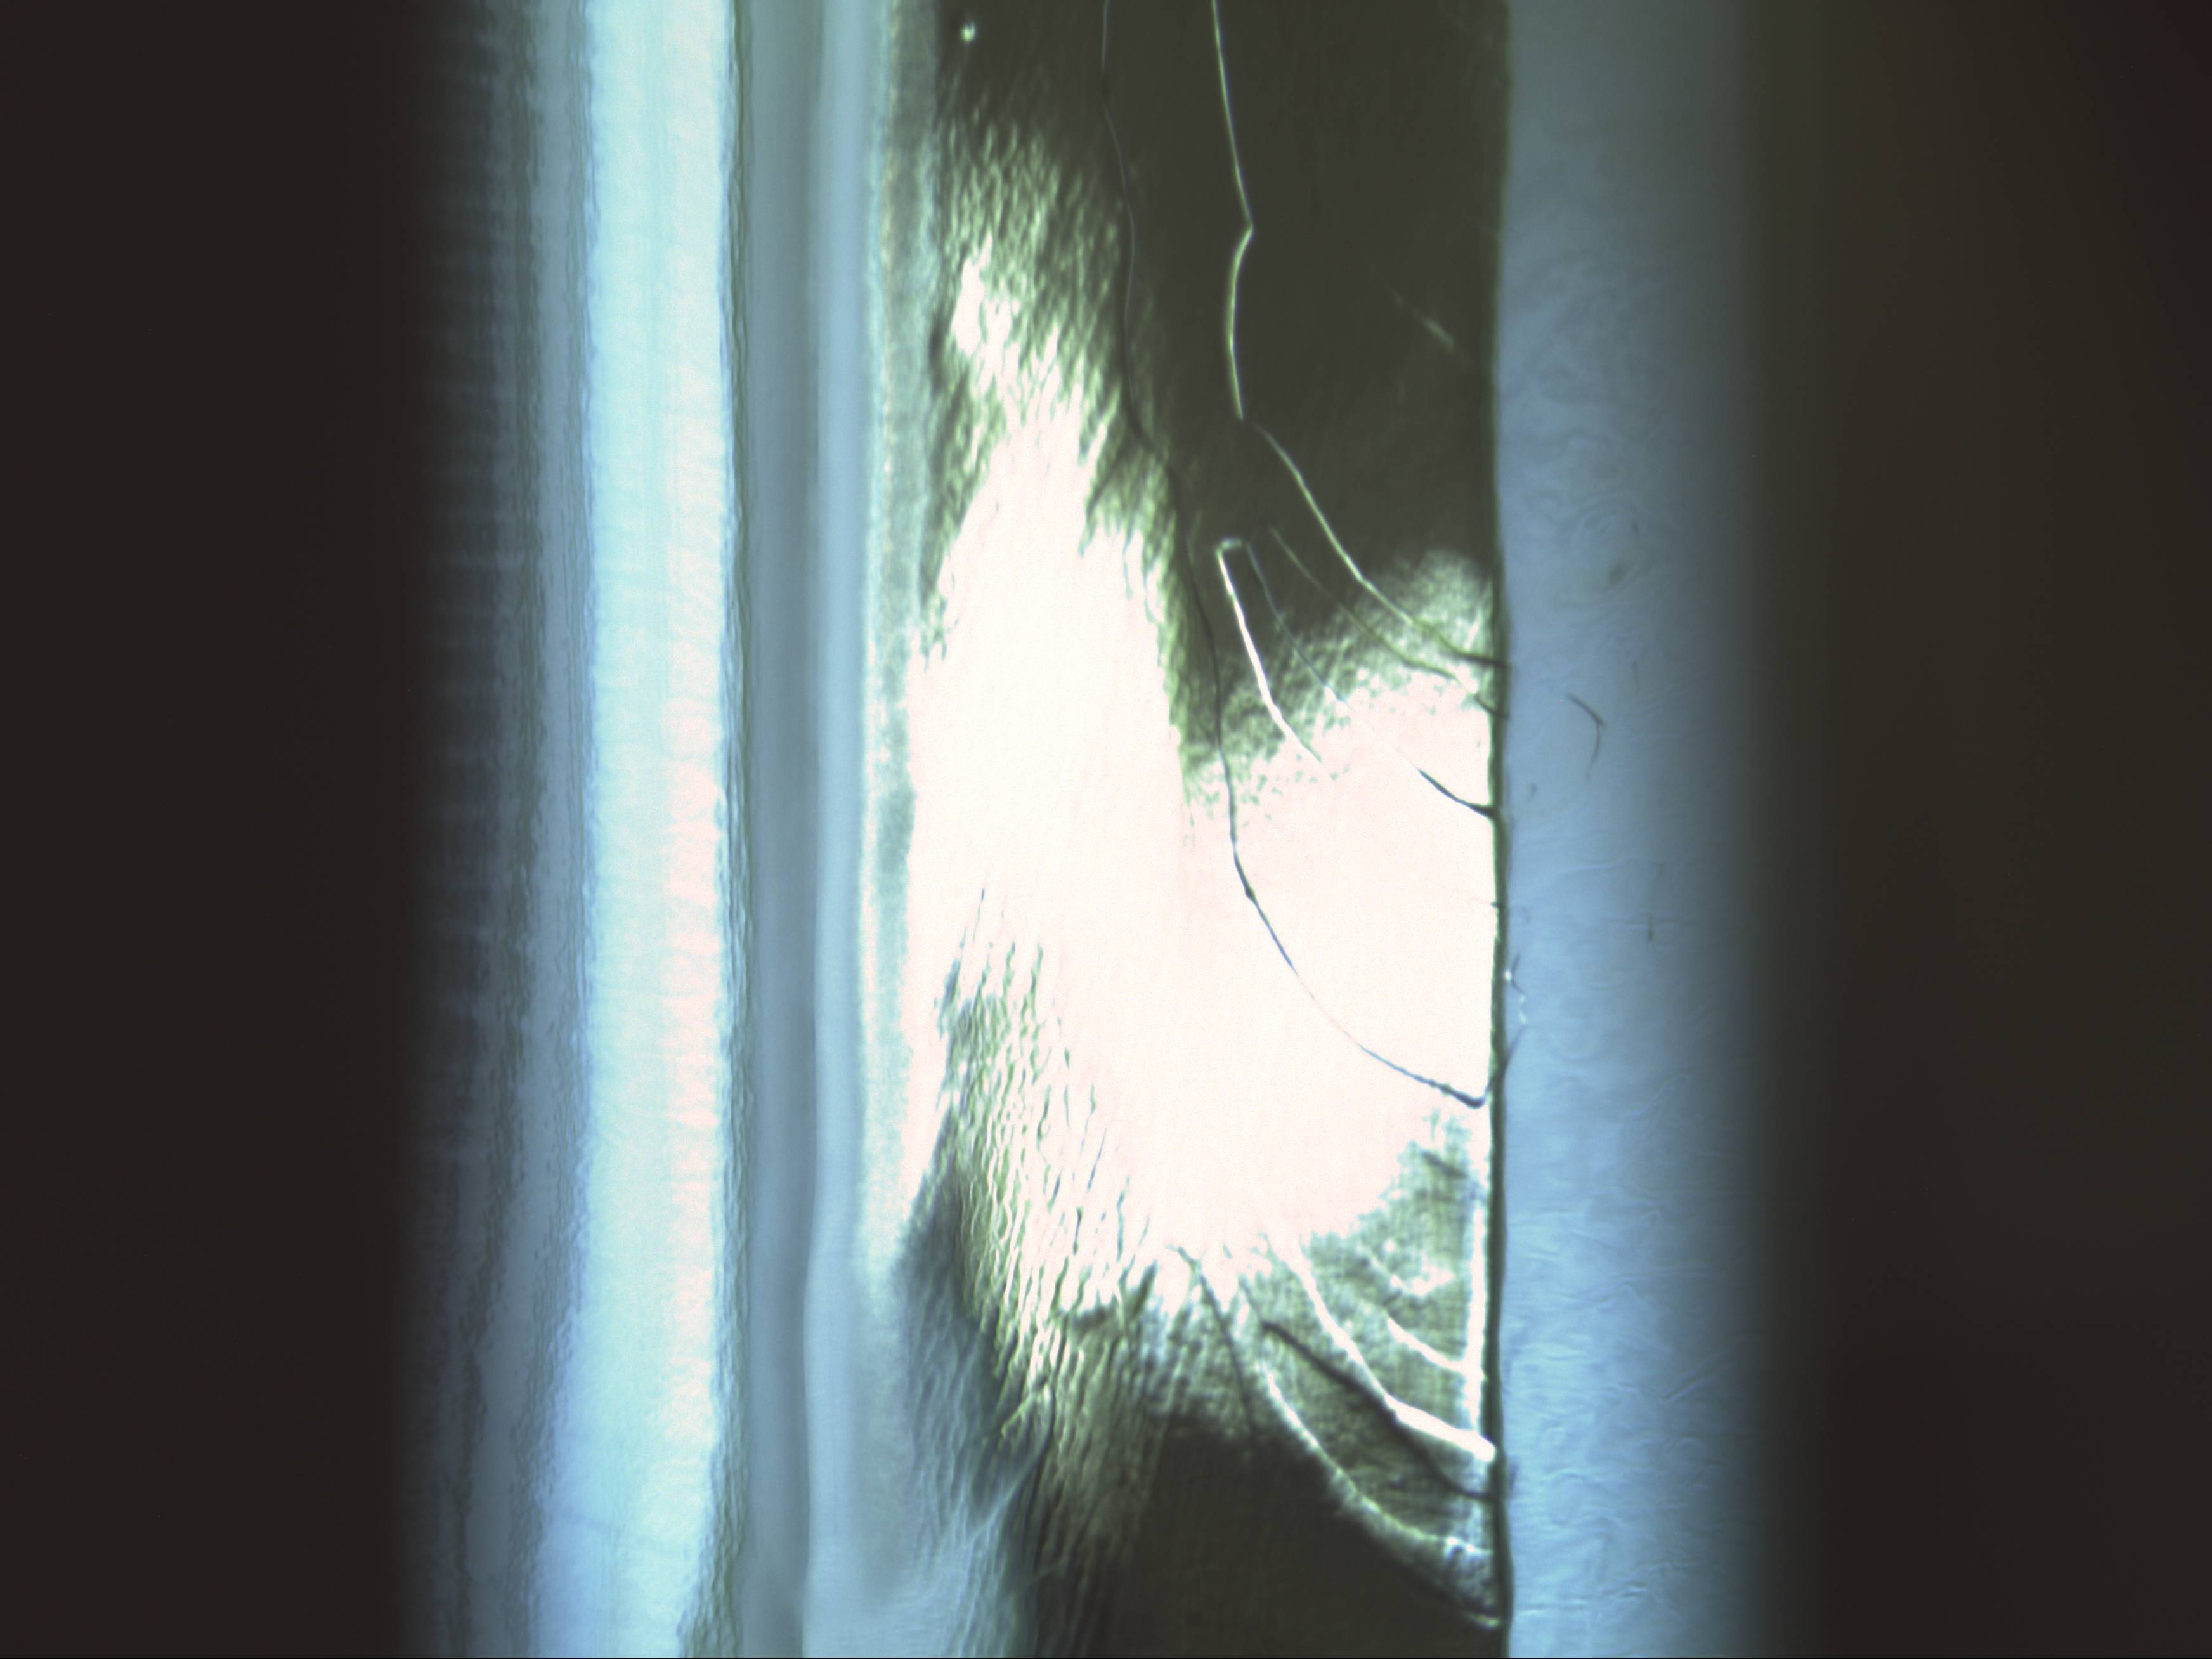defect: (948, 16, 981, 47)
